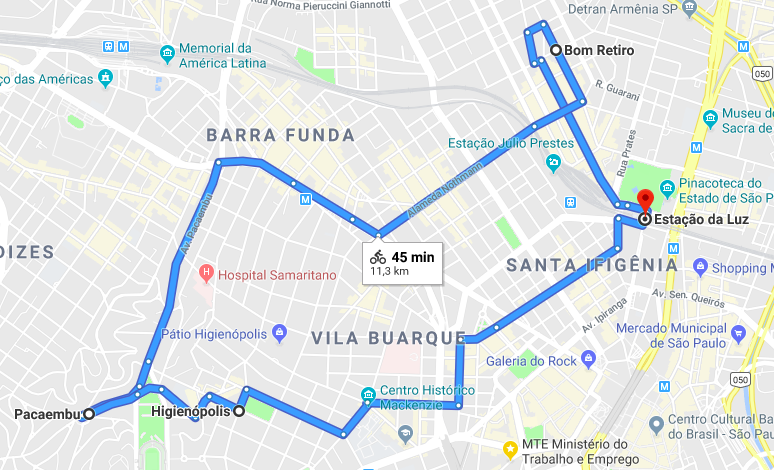

The dashboard page shown, as its layout file describes it:
{"tool":"powerbi","page":{"name":"Page 1","canvas":[1280,720],"ordinal":0},"visuals":[{"type":"esriVisual","fields":{"Longitude":["out3.xcoord"],"Latitude":["out3.ycoord"],"Size":["Sum(out3.Count_NUMPOINTS)"]},"box":[9.6,0,1174.4,655],"z":1}]}

Visuals, with their boxes on the page's 1280x720 design canvas (x1, y1, x2, y2). These are canvas units, not pixel positions in the 774x470 screenshot, which may show the page scaled, cropped or inside an application window:
esriVisual - out3.xcoord x out3.ycoord: box=[10, 0, 1184, 655]
